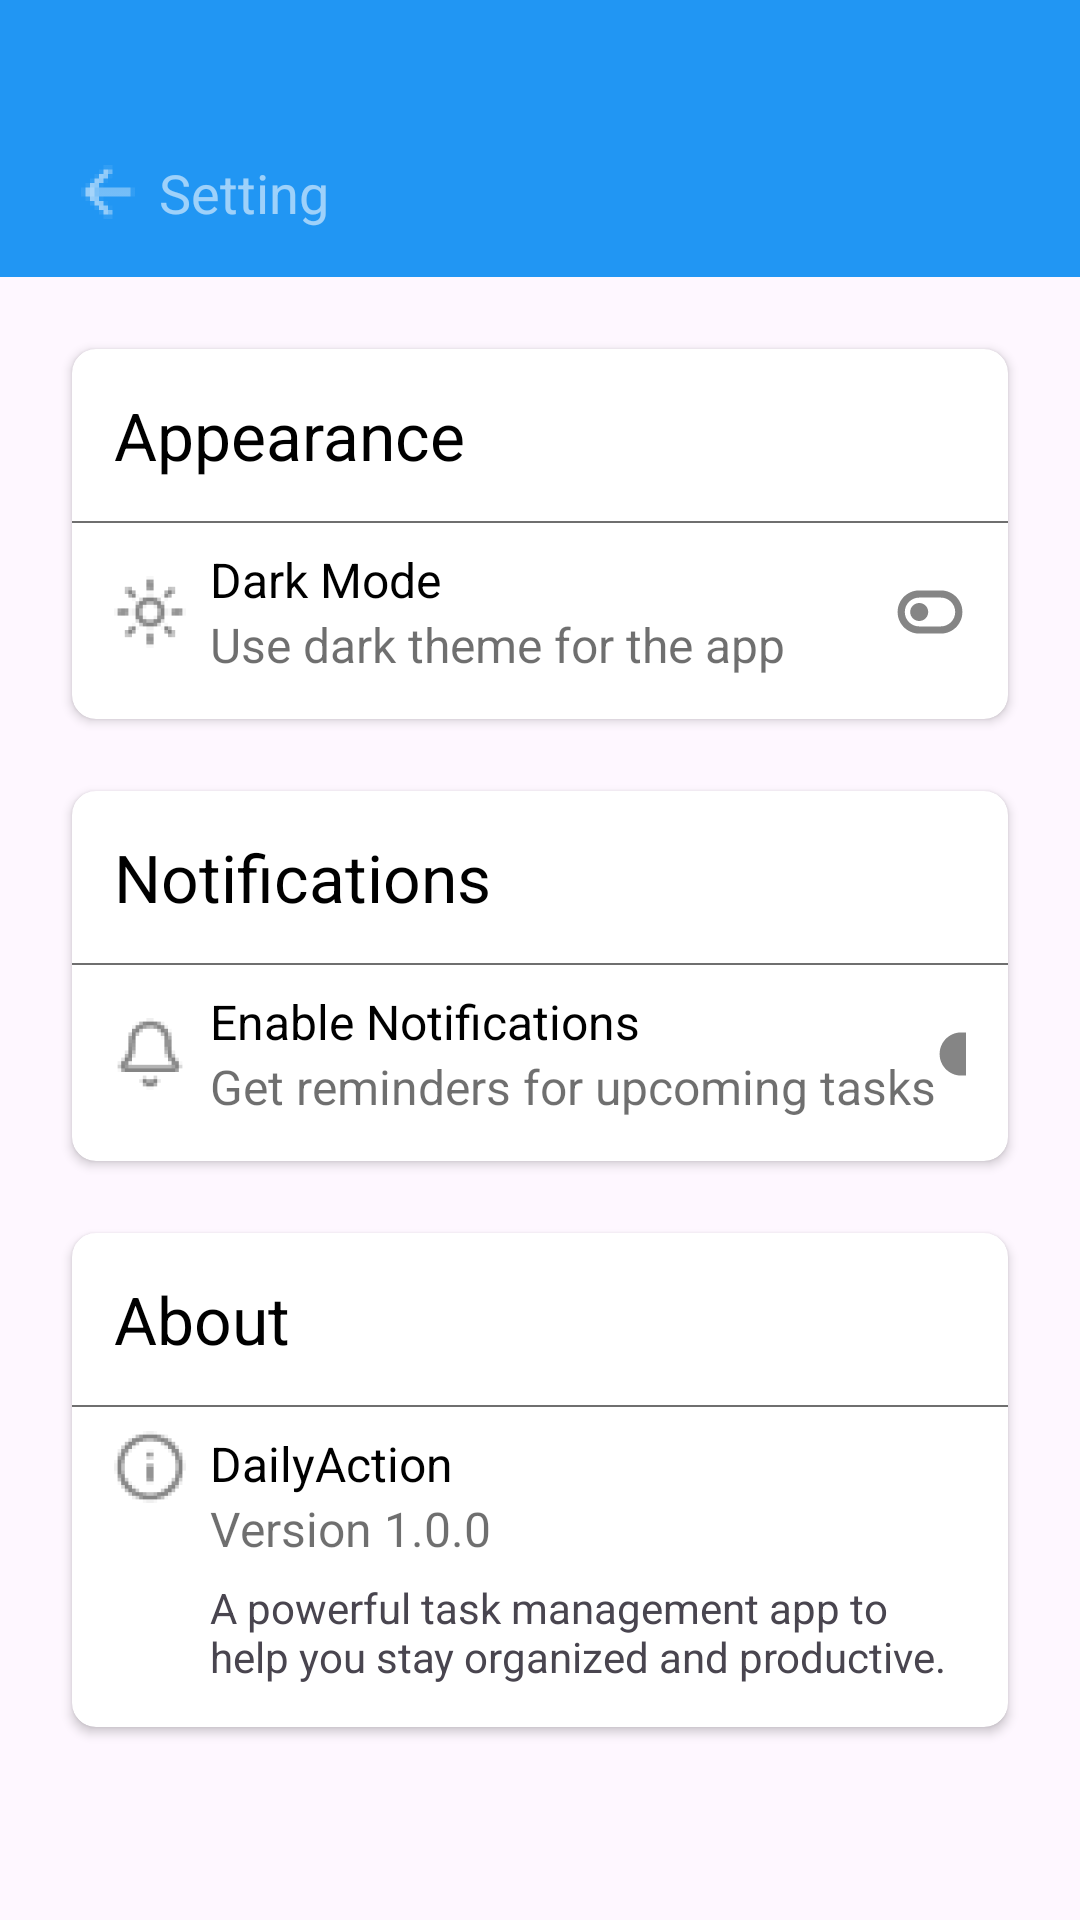

Screen size 1080px x 1920px. Icon name, then its box in pixels as (x1, y1, x2, y2):
back: (85, 169, 131, 215)
bell: (118, 1021, 182, 1087)
toggle off: (897, 590, 963, 634)
